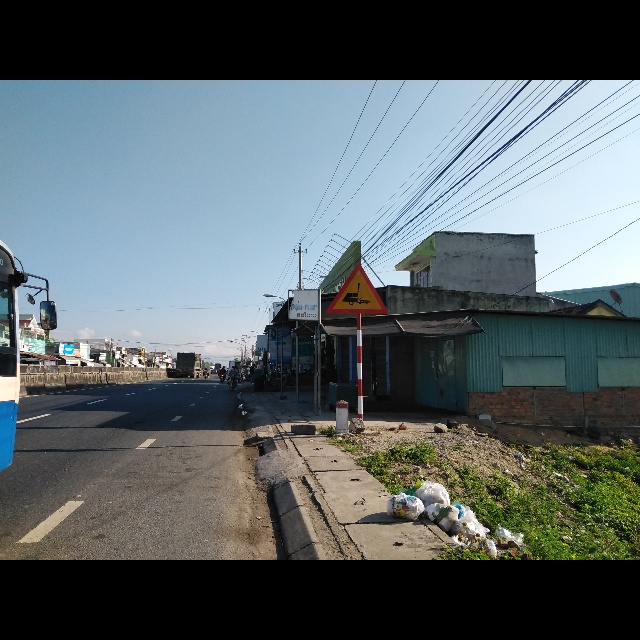Đoạn đường hay xảy ra tai nạn: (326, 263, 390, 316)
